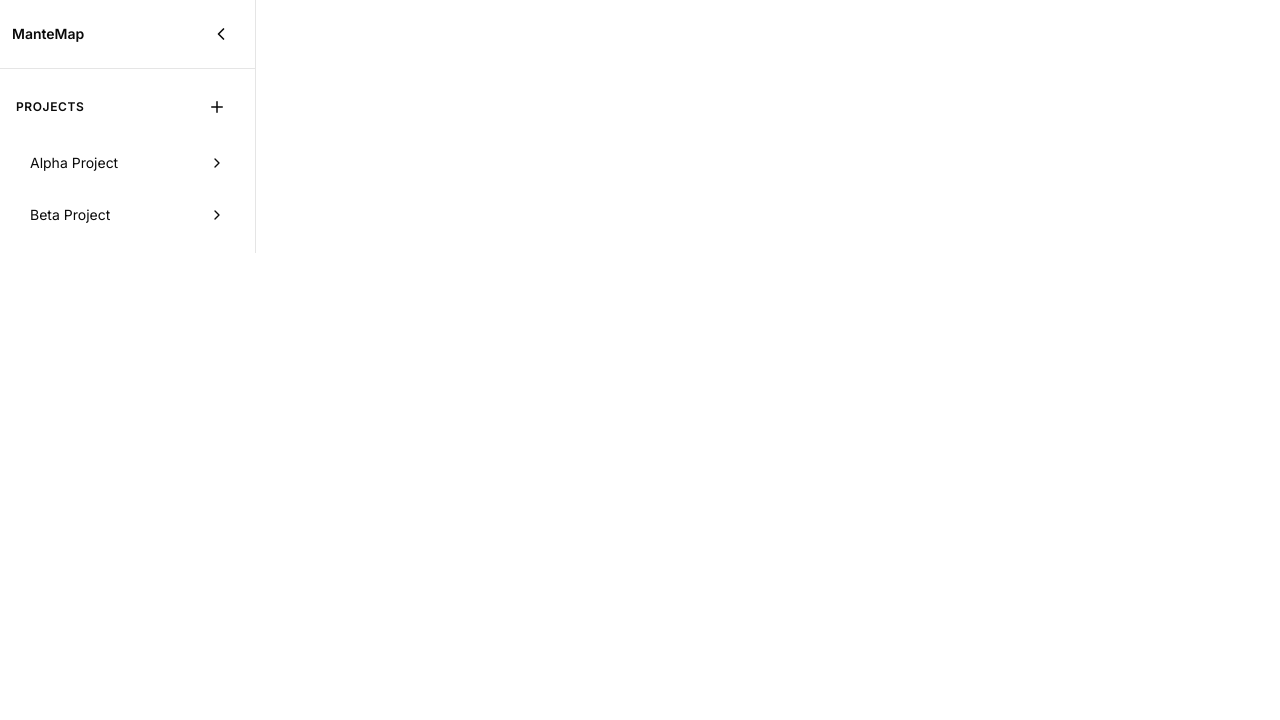
Sidebar › project navigation › expands and collapses each project navigation independently
The width and height of the screenshot is (1280, 720).
Click the button named "expand alpha project navigation": (217, 163) [195,141,239,185]
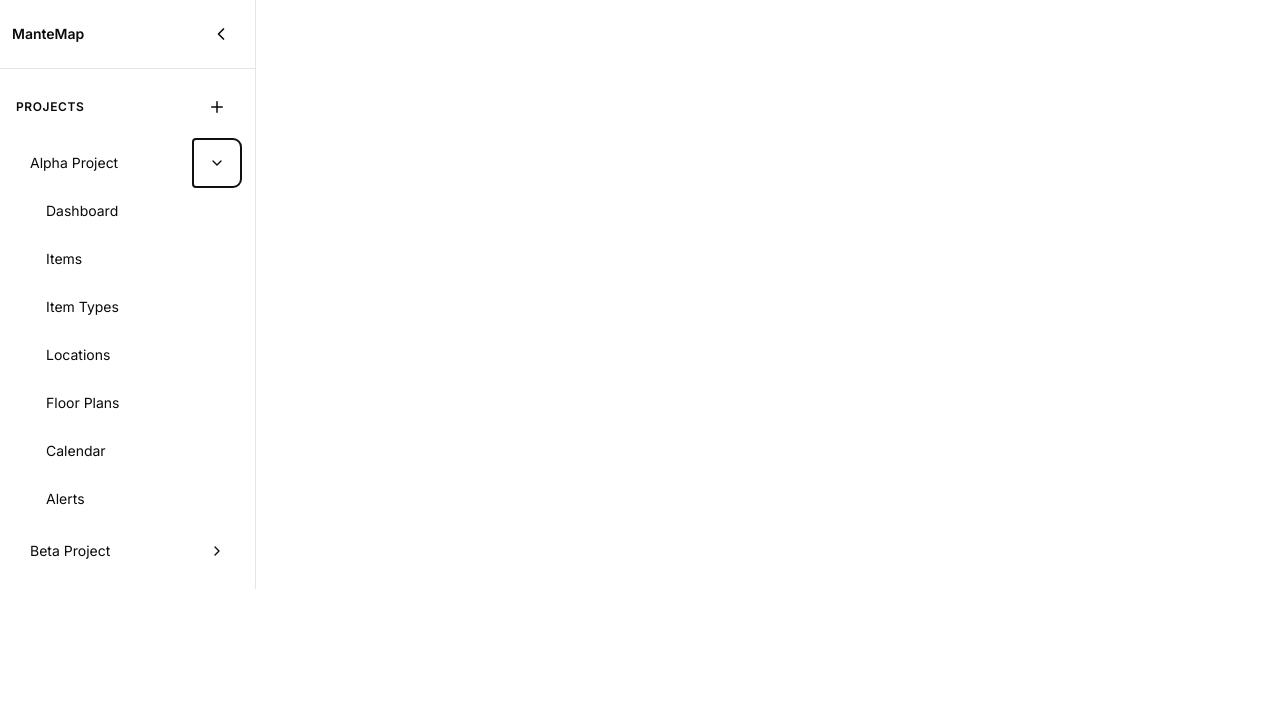
Now the button named "expand alpha project navigation" is expanded
Now the link "Dashboard" is shown, box [46,202,118,219]
Click the button named "expand alpha project navigation": (217, 163) [195,141,239,185]
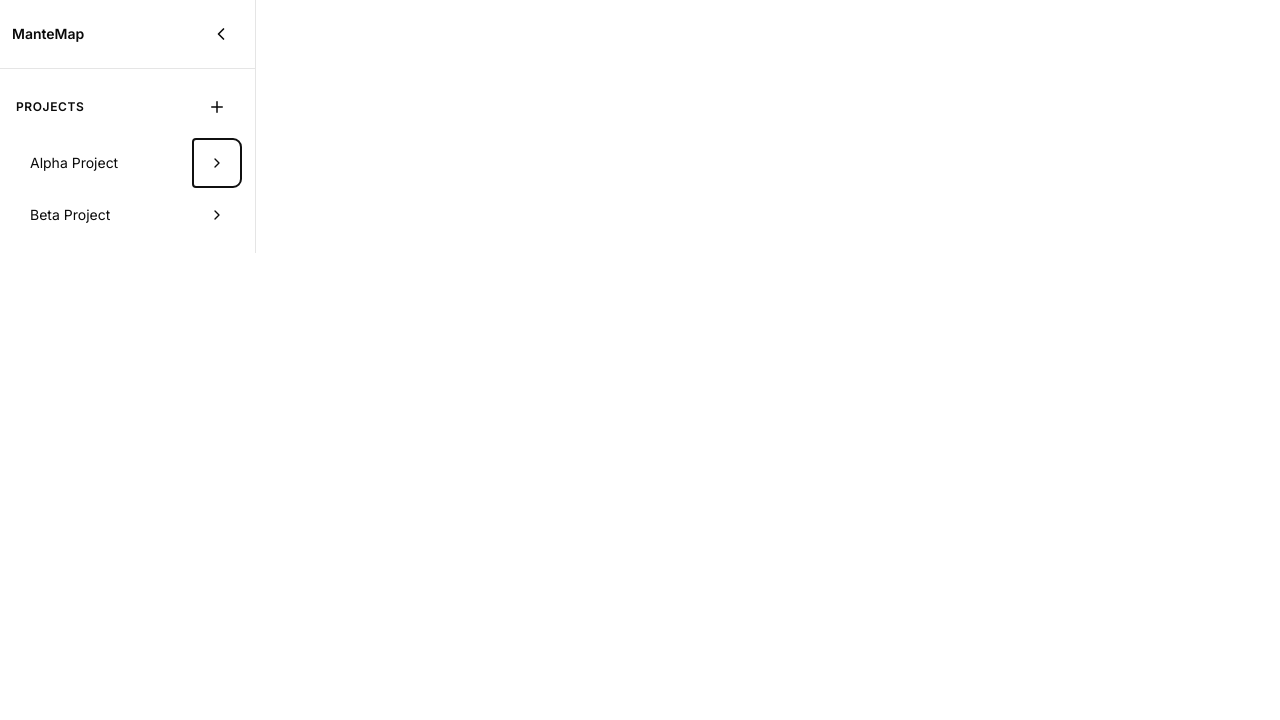
Now the button named "expand alpha project navigation" is collapsed, box [195,141,239,185]
Now the link "Dashboard" is gone
